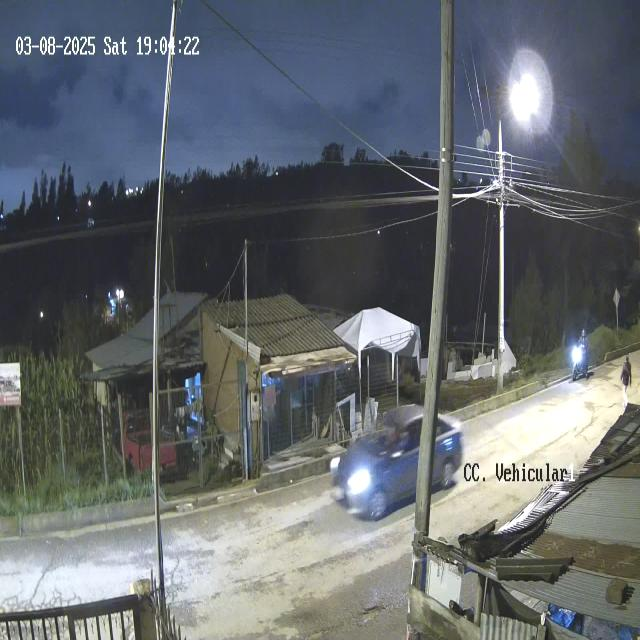SED: (327, 402, 466, 522)
